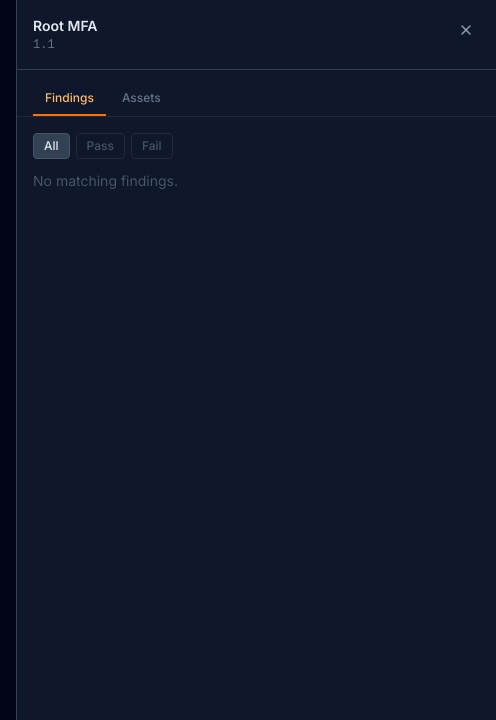
Scenario: ControlDrilldownPanel › switches to the Assets tab and shows each asset with its Pass/Fail tally
Step 1. Click the tab "assets" → (141, 99), box [110,82,173,116]
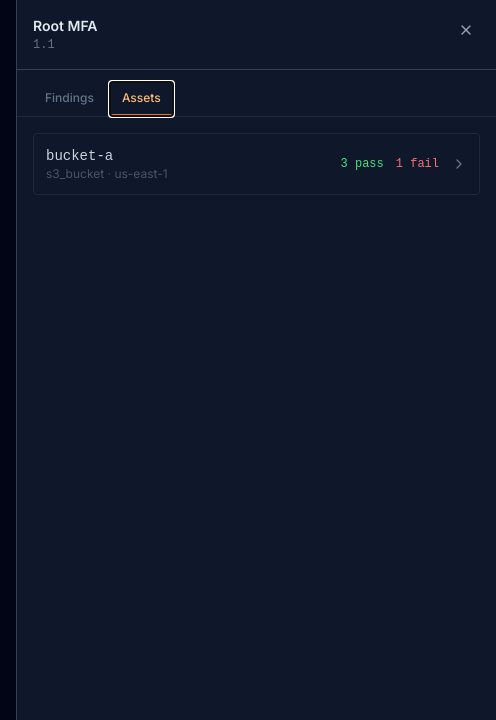
Check: the text "bucket-a" is shown, box [46,148,113,164]
Check: the text "3 pass" is shown, box [341,156,384,172]
Check: the text "1 fail" is shown, box [396,156,439,172]
